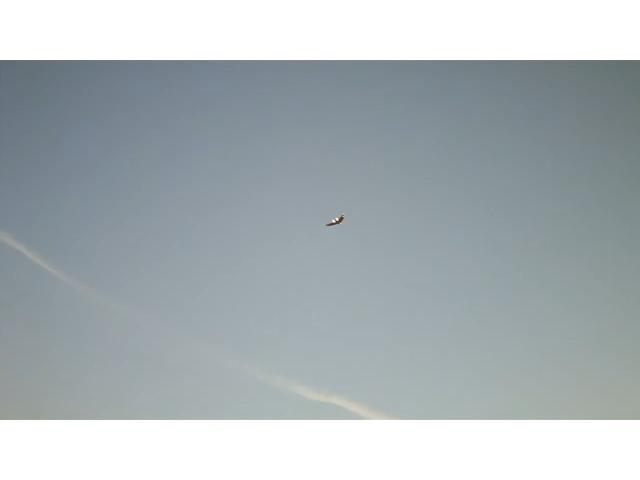Anti-Drone: (326, 215, 344, 226)
